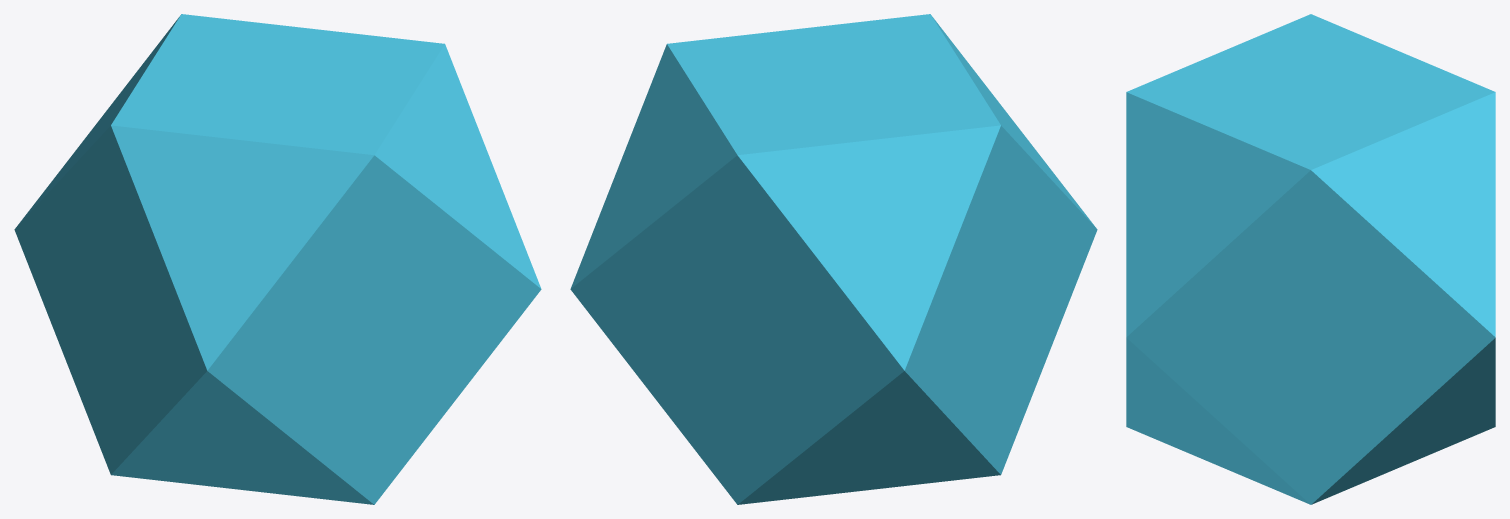
File: fractalcuboctahedron1-0.glb
The picture shows the model from 3 angles, left to right: view 1: azimuth 30°, elevation 25°; view 2: azimuth 150°, elevation 25°; view 3: azimuth 270°, elevation 25°; orthographic projection. The views are drawn at different scales.
Bounding box in the file's own units: 7.2 × 7.2 × 7.2.
